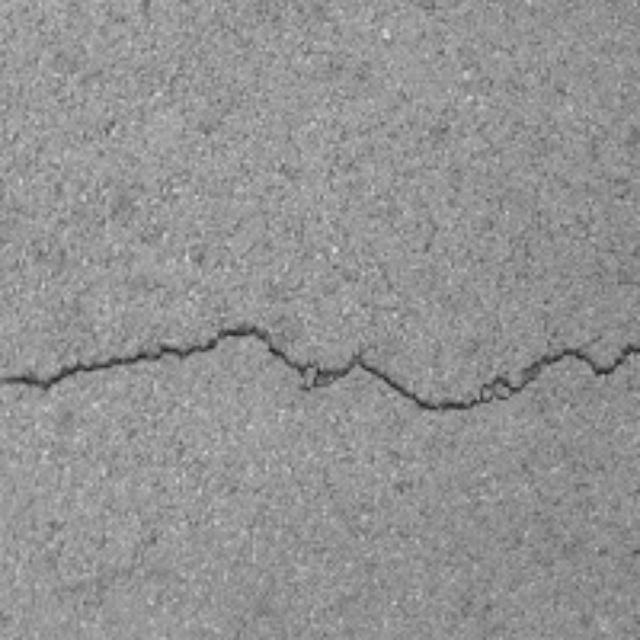Surface Erosion: (0, 279, 637, 469)
